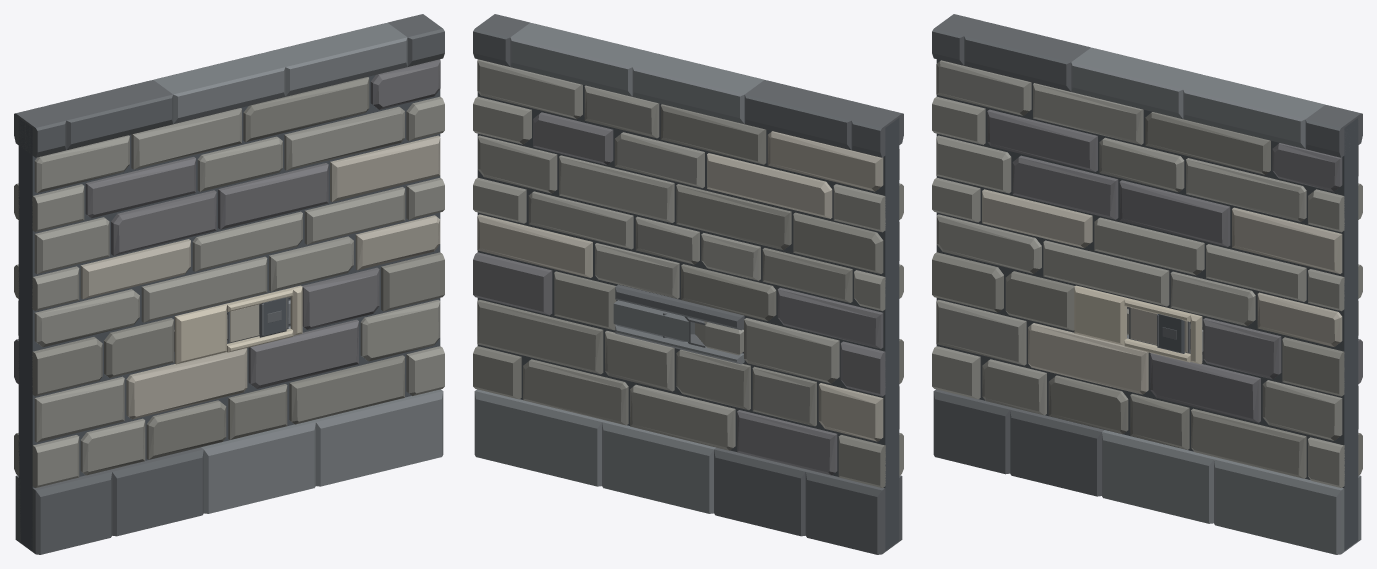
The model's file is SM_LPD_Struct_WallWindowSquint_01.fbx.
3 views of the same model, side by side, from view 1: azimuth 30°, elevation 25°; view 2: azimuth 150°, elevation 25°; view 3: azimuth 330°, elevation 25° (orthographic).
Parts seen in each view (by area): view 1: SM_LPD_Struct_WallWindowSquint_01; view 2: SM_LPD_Struct_WallWindowSquint_01; view 3: SM_LPD_Struct_WallWindowSquint_01.
Boxes of the visible parts, x1,y1,x2,y2 form: SM_LPD_Struct_WallWindowSquint_01: [14, 14, 444, 554]; SM_LPD_Struct_WallWindowSquint_01: [473, 14, 903, 554]; SM_LPD_Struct_WallWindowSquint_01: [932, 14, 1362, 554].
Size of the model in its own units: 4 by 4 by 0.4.
